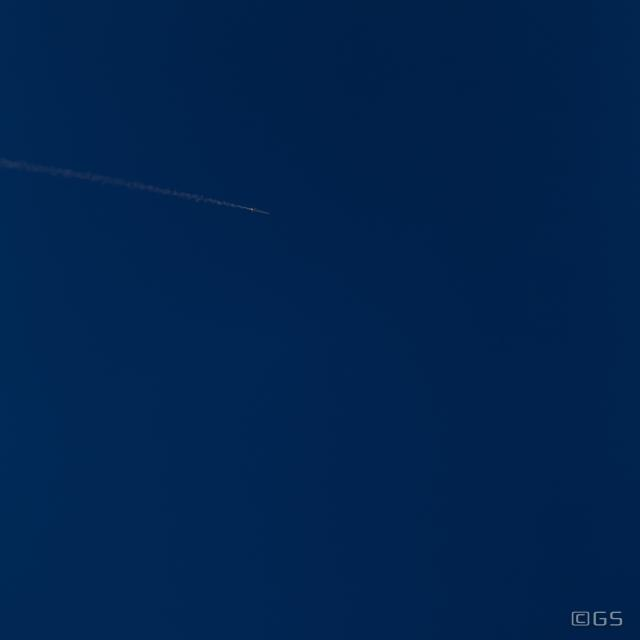Rocket: (250, 207, 270, 215)
